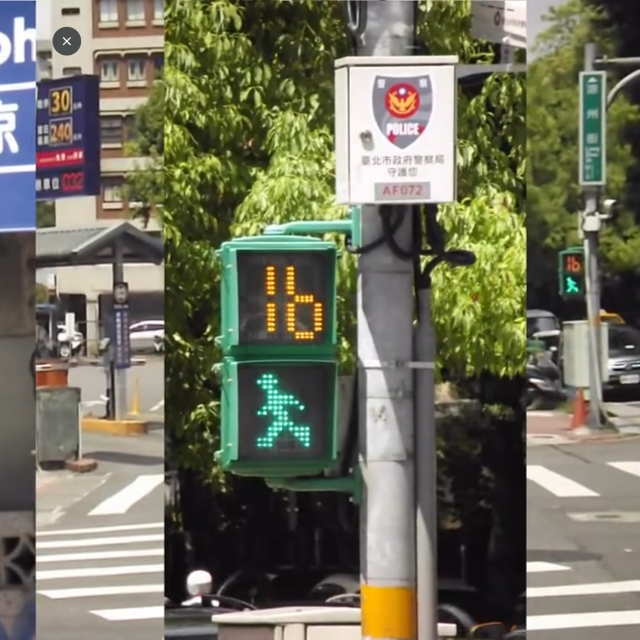green_light: (223, 240, 340, 470), (558, 251, 584, 295)
